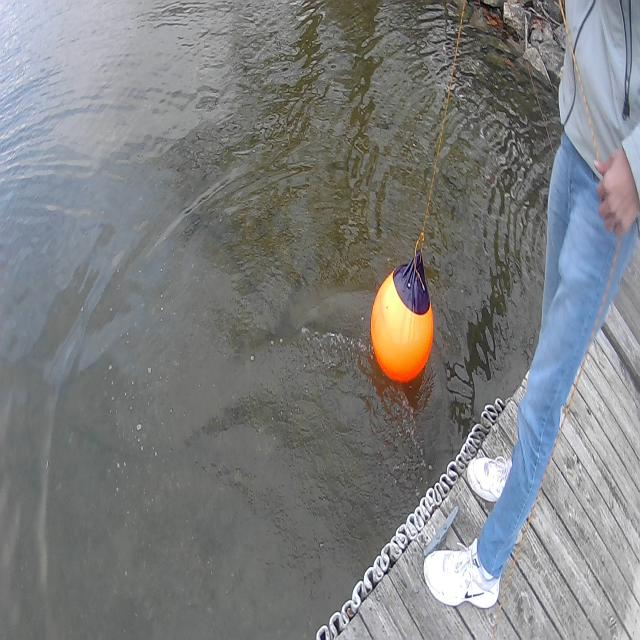Buoy: (368, 269, 436, 388)
